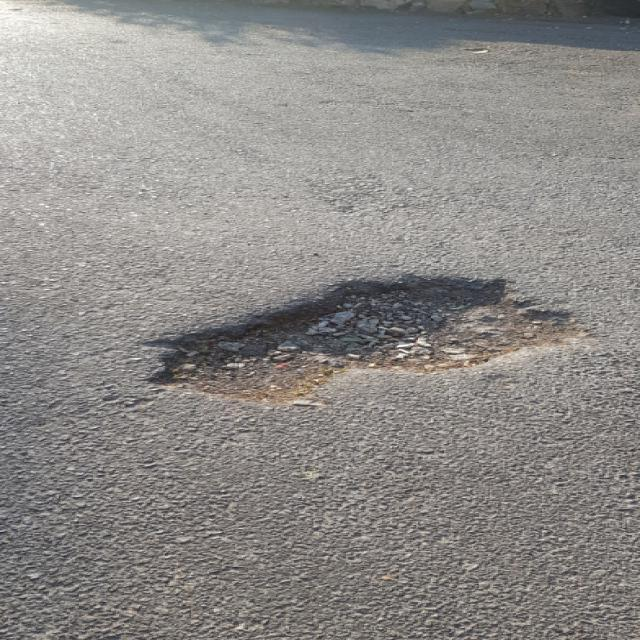Pothole: (136, 270, 603, 409)
